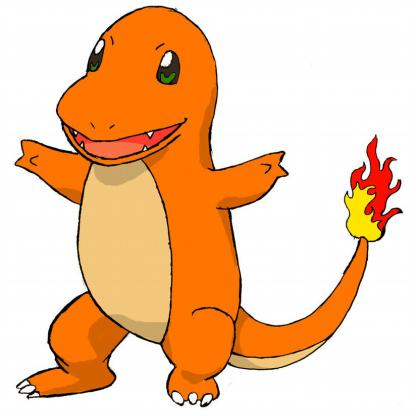Charmander: (13, 13, 416, 416)
